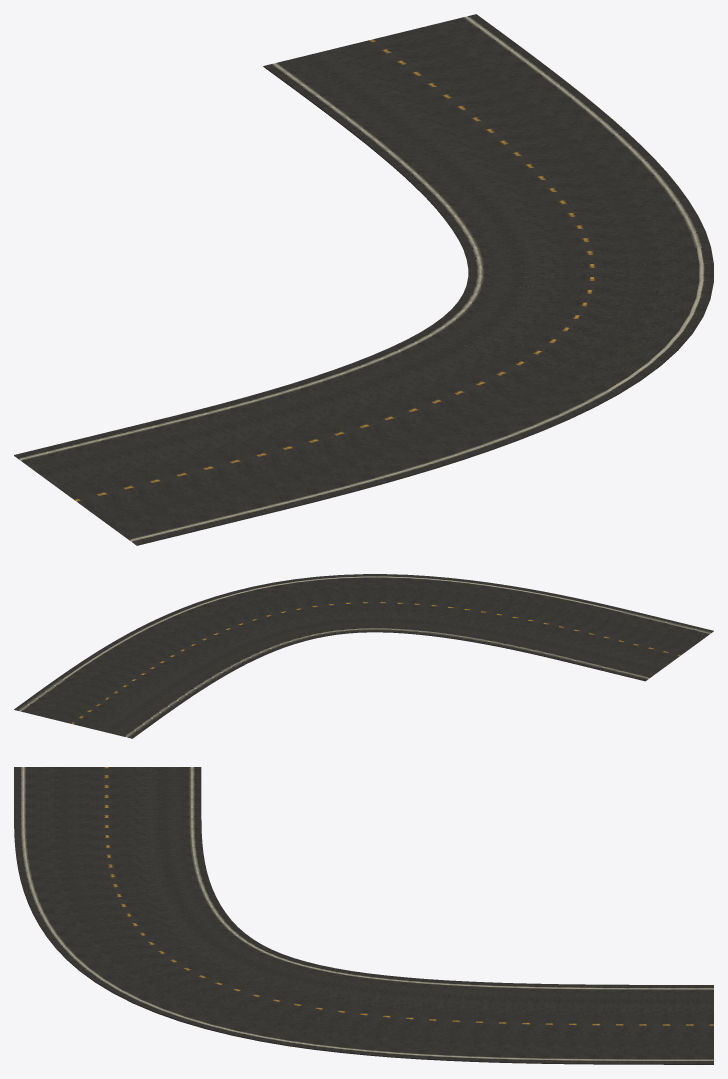
The model's file is Track1P1_Curve.fbx.
The picture shows the model from 3 angles, top to bottom: view 1: azimuth 30°, elevation 25°; view 2: azimuth 150°, elevation 25°; view 3: azimuth 270°, elevation 25°; orthographic projection. The views are drawn at different scales.
Visible parts, largest first — view 1: Track1P1_Curve; view 2: Track1P1_Curve; view 3: Track1P1_Curve.
Part boxes in pixels (x1=…): Track1P1_Curve: x1=14, y1=14, x2=713, y2=545; Track1P1_Curve: x1=14, y1=574, x2=713, y2=738; Track1P1_Curve: x1=14, y1=767, x2=713, y2=1064.
Bounding box in the file's own units: 1500 × 1494 × 1.58.
1 material, 1 textured.
